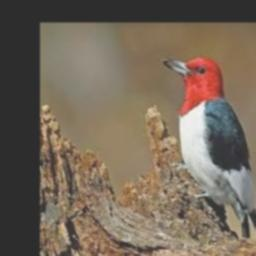Woodpecker: (163, 56, 256, 242)
